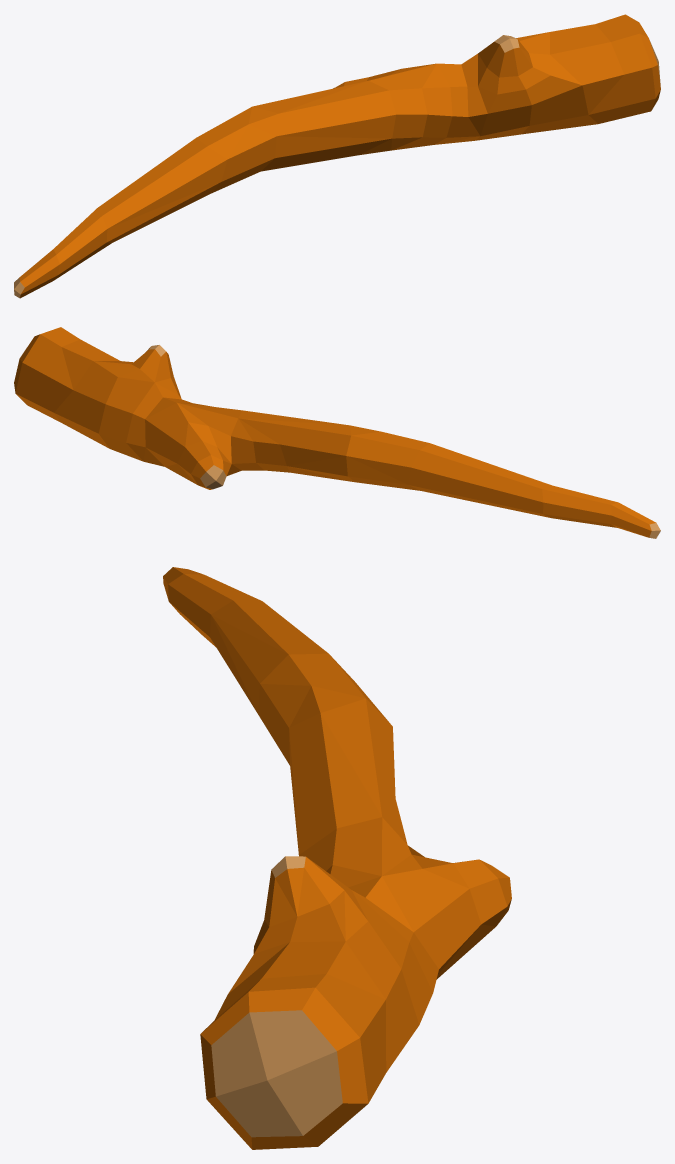
File: Log08.fbx
3 views of the same model, one above another, from view 1: azimuth 30°, elevation 25°; view 2: azimuth 150°, elevation 25°; view 3: azimuth 270°, elevation 25° (orthographic). The views are drawn at different scales.
Visible parts, largest first — view 1: Plane; view 2: Plane; view 3: Plane.
Boxes of the visible parts, bbox=[...] form: Plane: bbox=[14, 14, 660, 298]; Plane: bbox=[14, 327, 660, 538]; Plane: bbox=[163, 567, 511, 1149].
Size of the model in its own units: 211 by 33.59 by 52.79.
